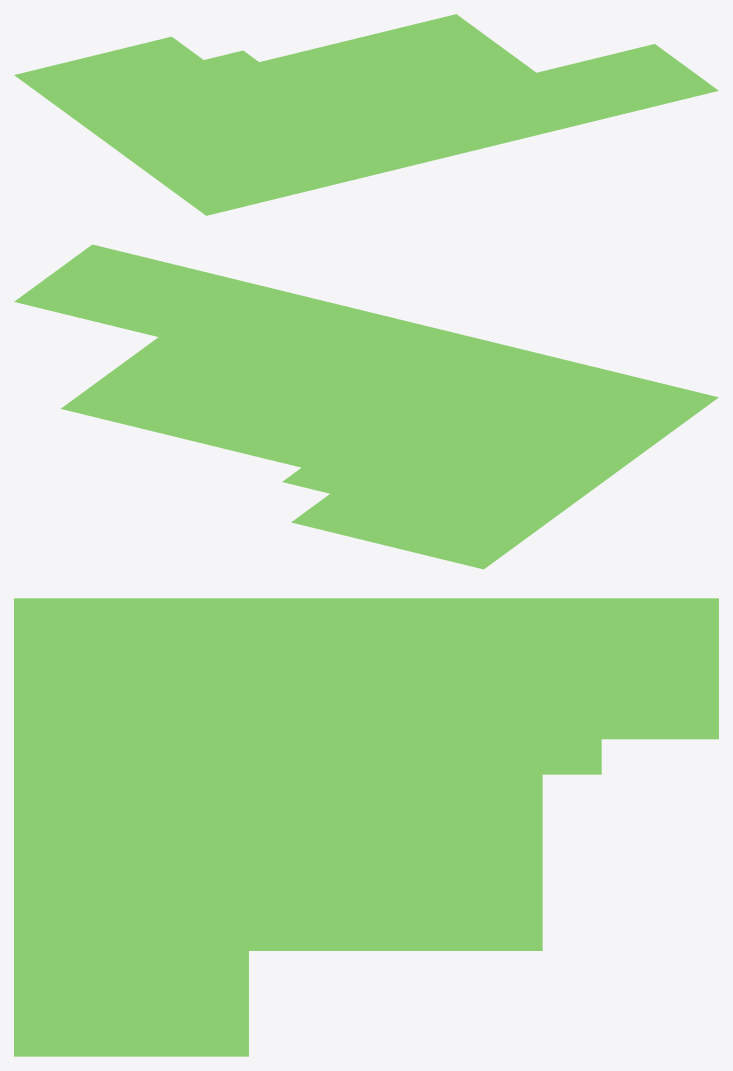
The model's file is oficina_navmesh.glb.
3 views of the same model, one above another, from view 1: azimuth 30°, elevation 25°; view 2: azimuth 150°, elevation 25°; view 3: azimuth 270°, elevation 25° (orthographic). The views are drawn at different scales.
Parts seen in each view (by area): view 1: Plane; view 2: Plane; view 3: Plane.
Part boxes in pixels (box(x1,y1,x2,y2)): Plane: box(14, 14, 718, 215); Plane: box(14, 244, 718, 569); Plane: box(14, 598, 718, 1056).
Size of the model in its own units: 2.31 by 0 by 1.5.
